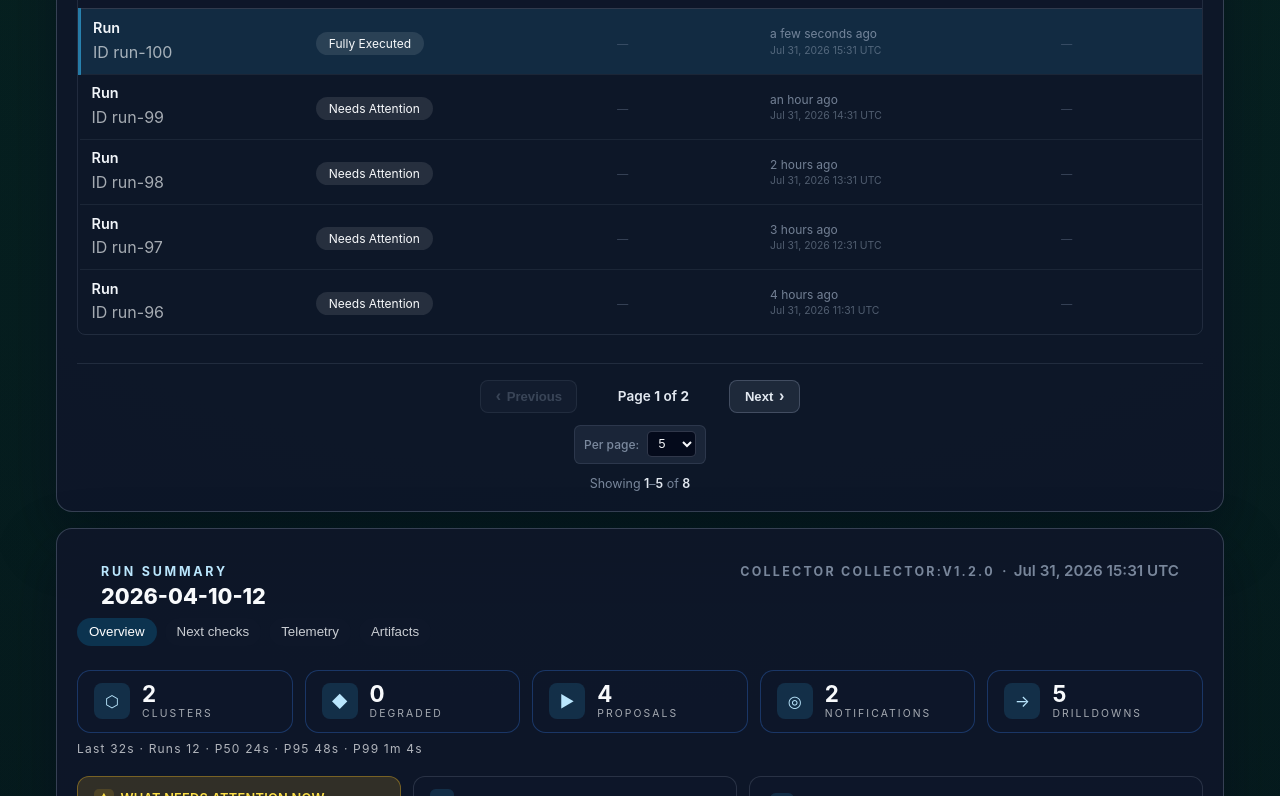
Test: Detached notice visibility › notice only shows when detached AND selected run is off current page
(page scrolled)
expect the 1st button with class "run-row" is shown: met, box [80,9,1202,74]
Note: Navigate to page 2 (detached mode)
Click the button with aria-label "runs next page".
click(765, 396)  # box [730,380,800,413]
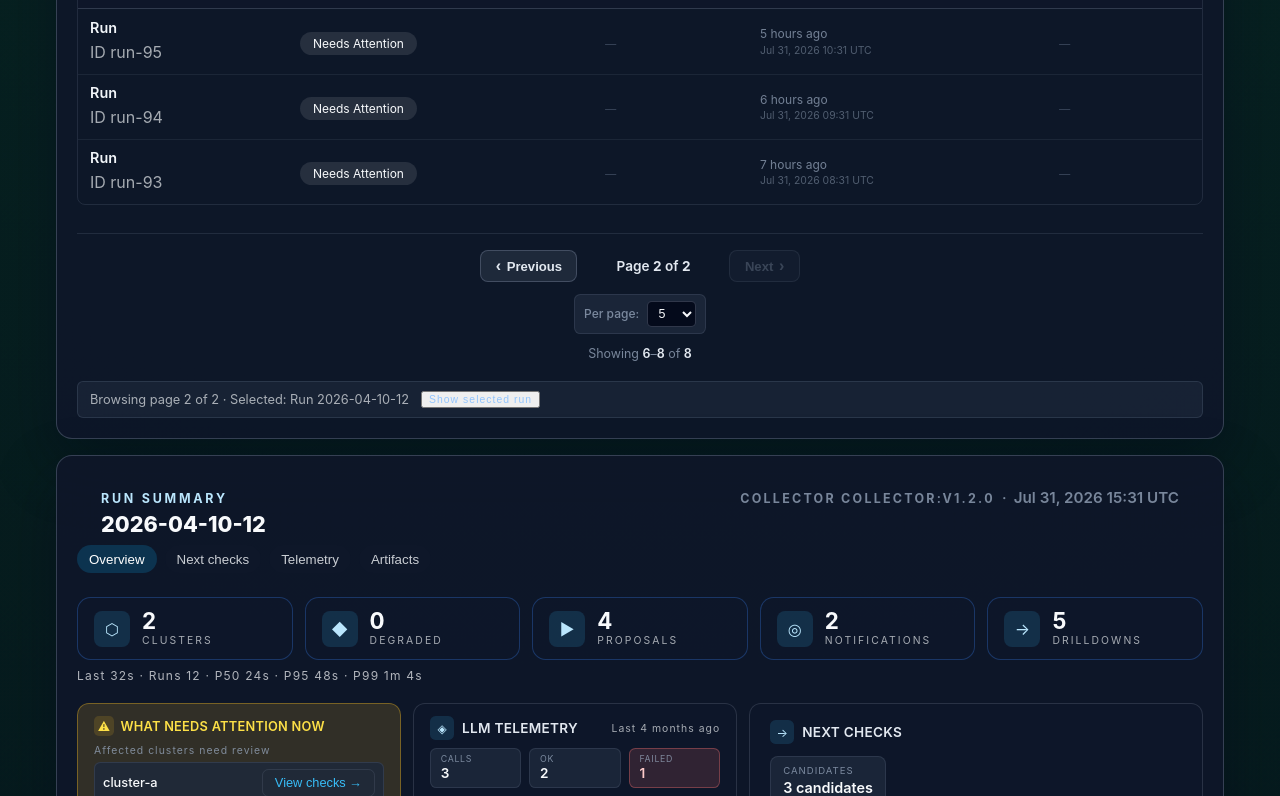
expect the element showing "Page 2 of 2" is shown: met, box [616,258,690,274]
expect the 1st button with class "run-row" is shown: met
Click the 1st button with class "run-row".
click(640, 42)  # box [78,9,1202,74]
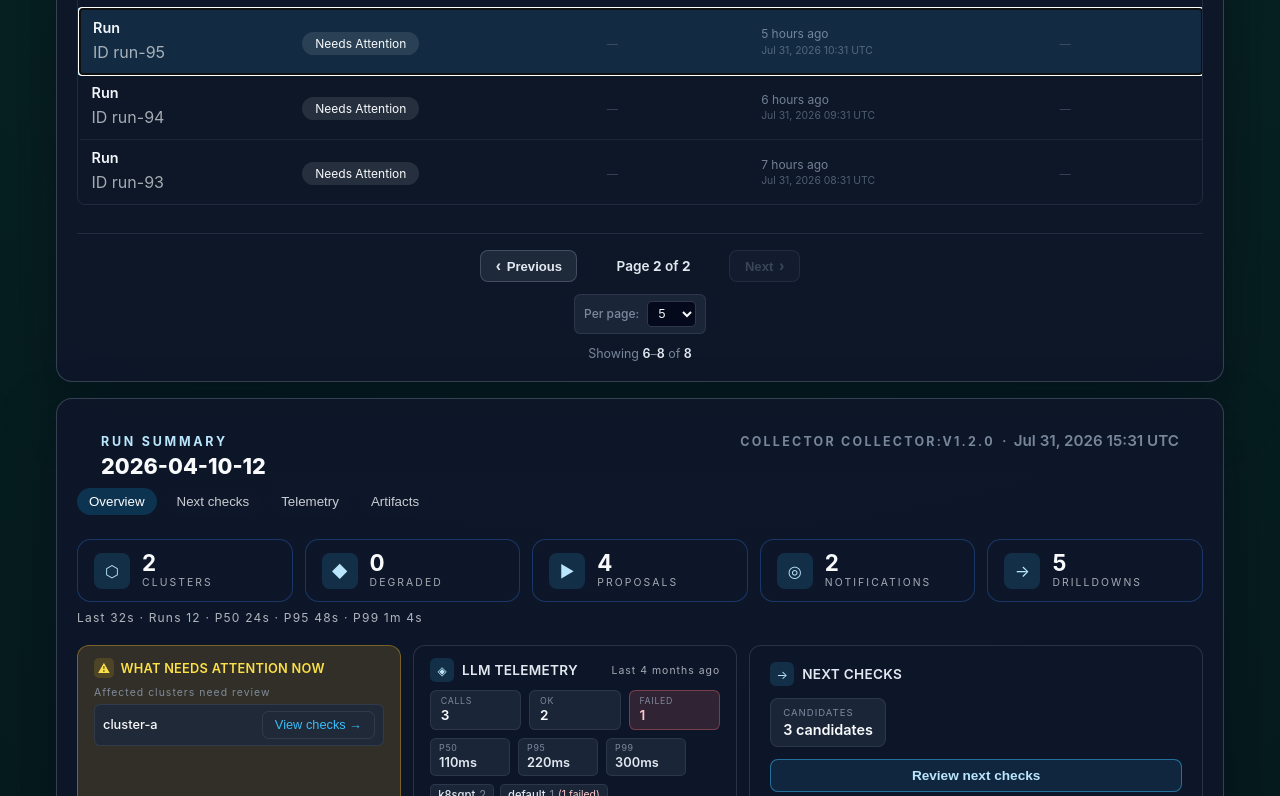
expect the 1st button with class "run-row" is shown: met, box [80,9,1202,74]
expect the element with class "runs-detached-notice" is gone: met
Note: Now navigate to page 1 (detached mode continues, but selected run is now off-page)
Click the button with aria-label "runs previous page".
click(529, 266)  # box [480,250,578,282]
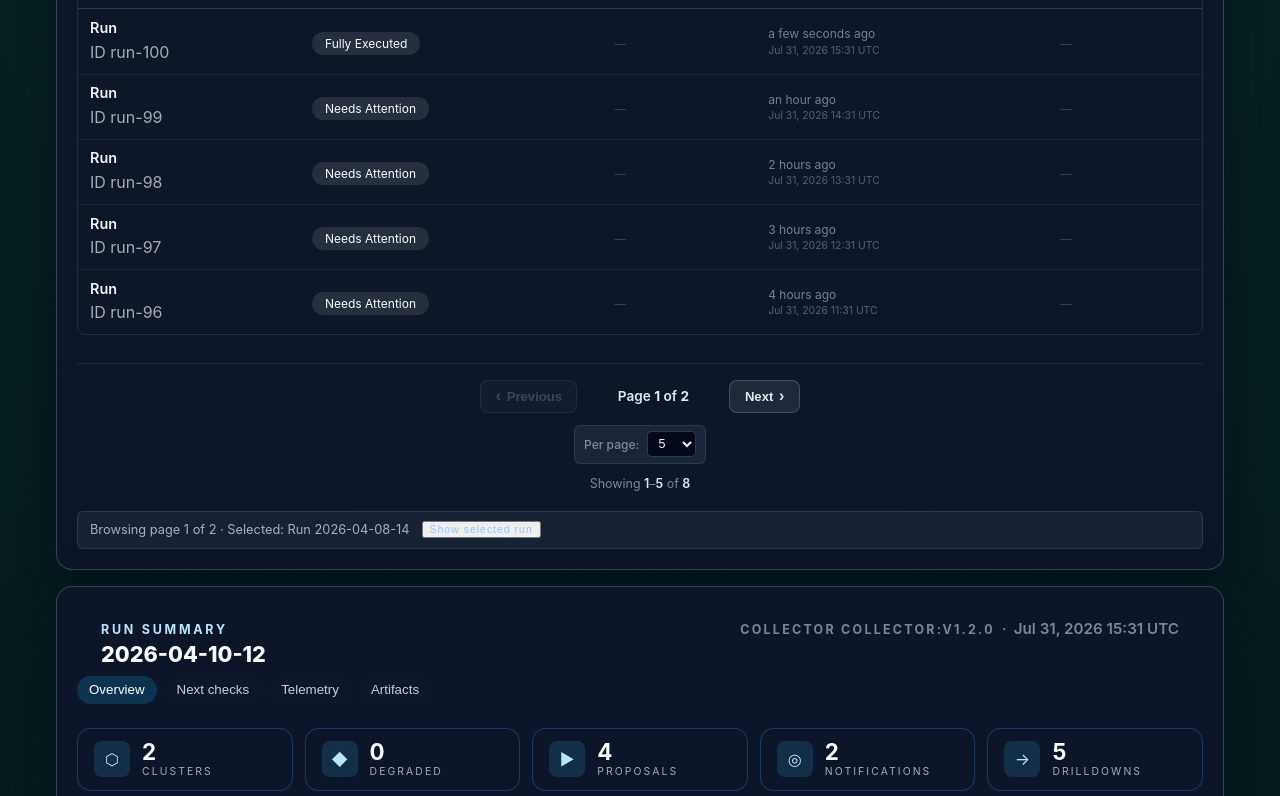
expect the element showing "Page 1 of 2" is shown: met, box [618,388,689,404]
expect the text "Browsing page 1 of 2 · Selected: Run 2026-04-08-14" is shown: met, box [90,522,410,537]
expect the text "Browsing page 1" is shown: met, box [77,511,1203,549]
